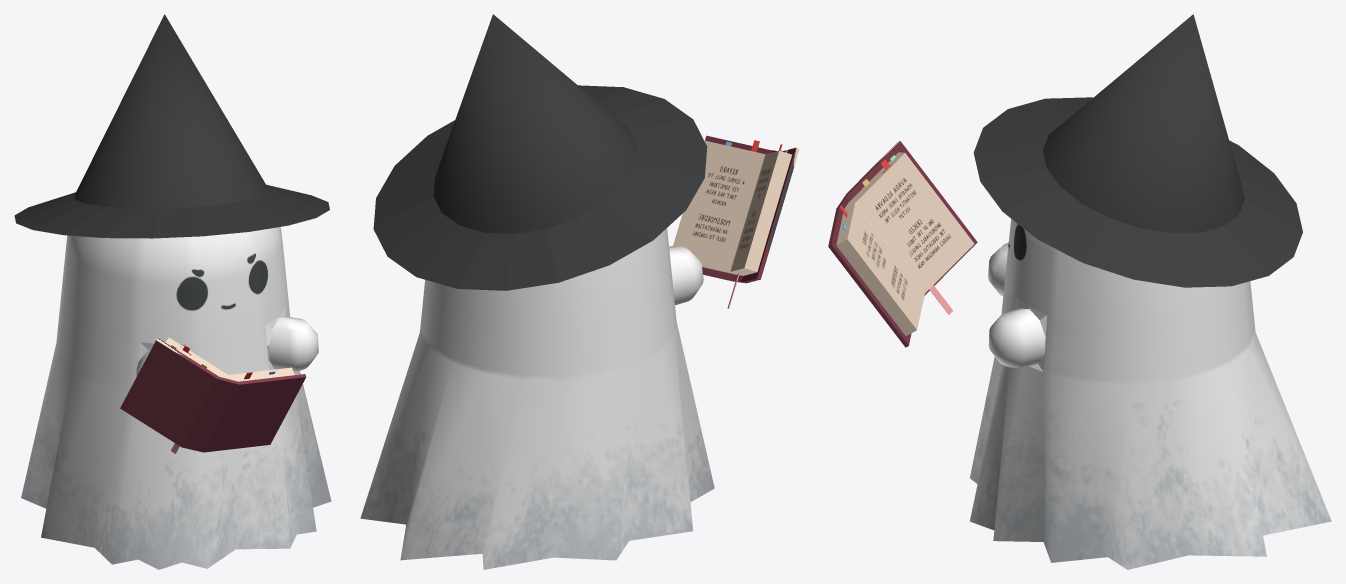
The model's file is Wizard1.fbx.
3 views of the same model, side by side, from view 1: azimuth 30°, elevation 25°; view 2: azimuth 150°, elevation 25°; view 3: azimuth 270°, elevation 25° (orthographic). The views are drawn at different scales.
Visible parts, largest first — view 1: pCone2; view 2: pCone2; view 3: pCone2.
Part boxes in pixels (left/top/right/bottom): pCone2: left=14, top=14, right=331, bottom=569; pCone2: left=360, top=14, right=799, bottom=569; pCone2: left=828, top=14, right=1331, bottom=569.
Size of the model in its own units: 5.19 by 8.38 by 7.71.
